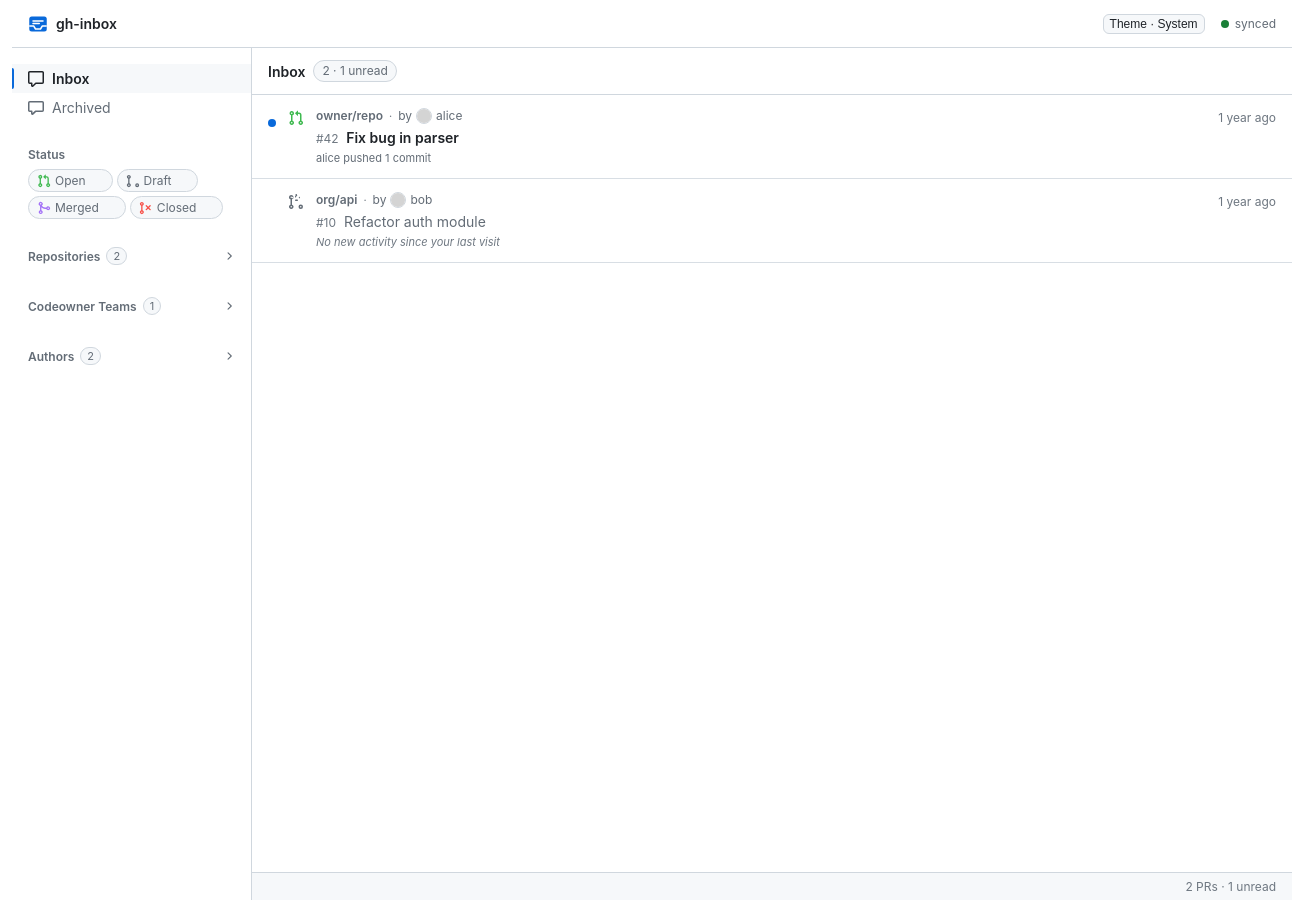
Test: App › opens the PR detail panel when selecting a notification
The image size is (1304, 900).
Expected: the text "Fix bug in parser" is shown, [343,129,459,146]
Click the text "Fix bug in parser". click: coordinates (387, 138)
box: [316,129,459,146]
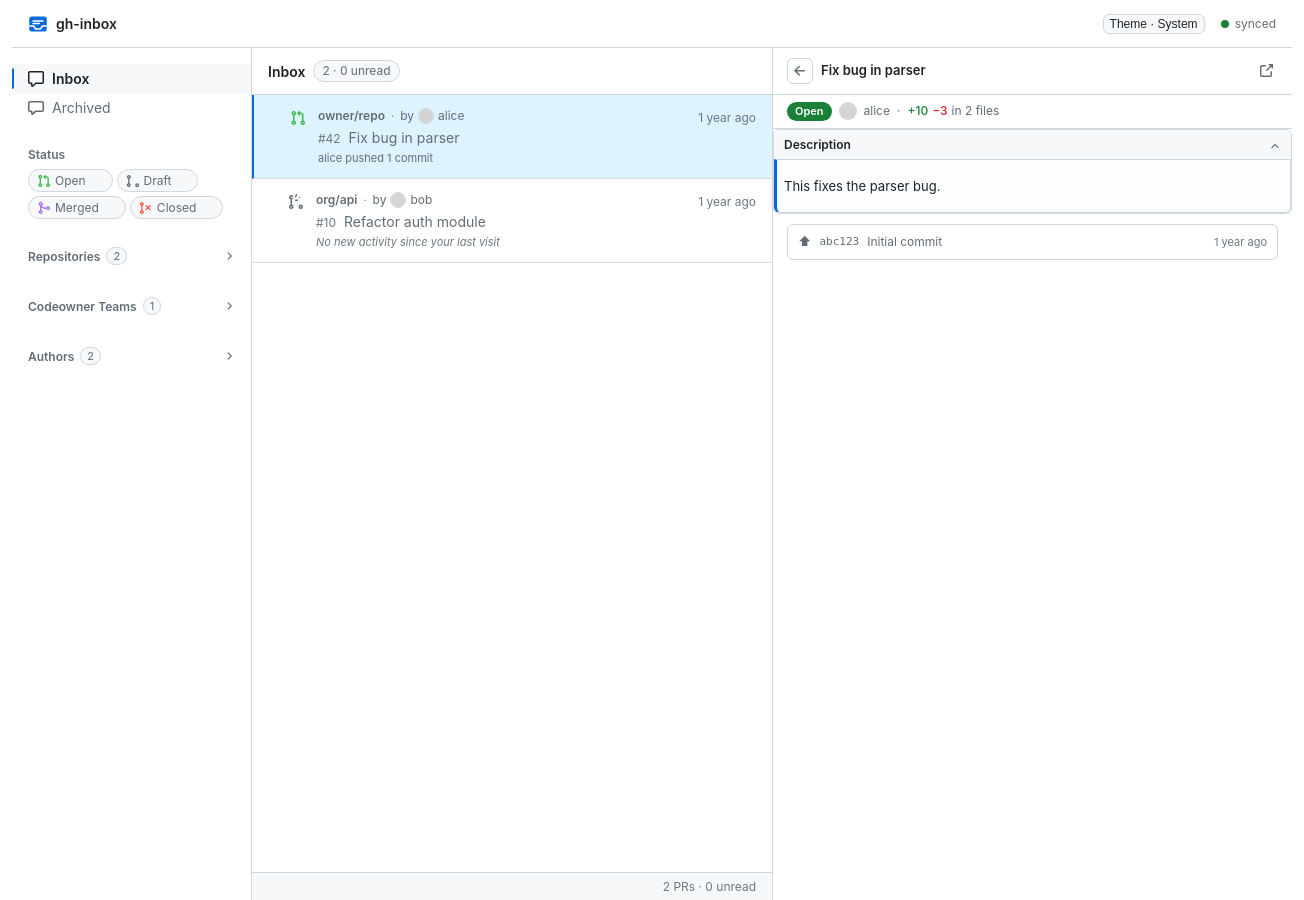
Expected: the element named "Resize PR detail panel" is shown, [768,48,776,899]
